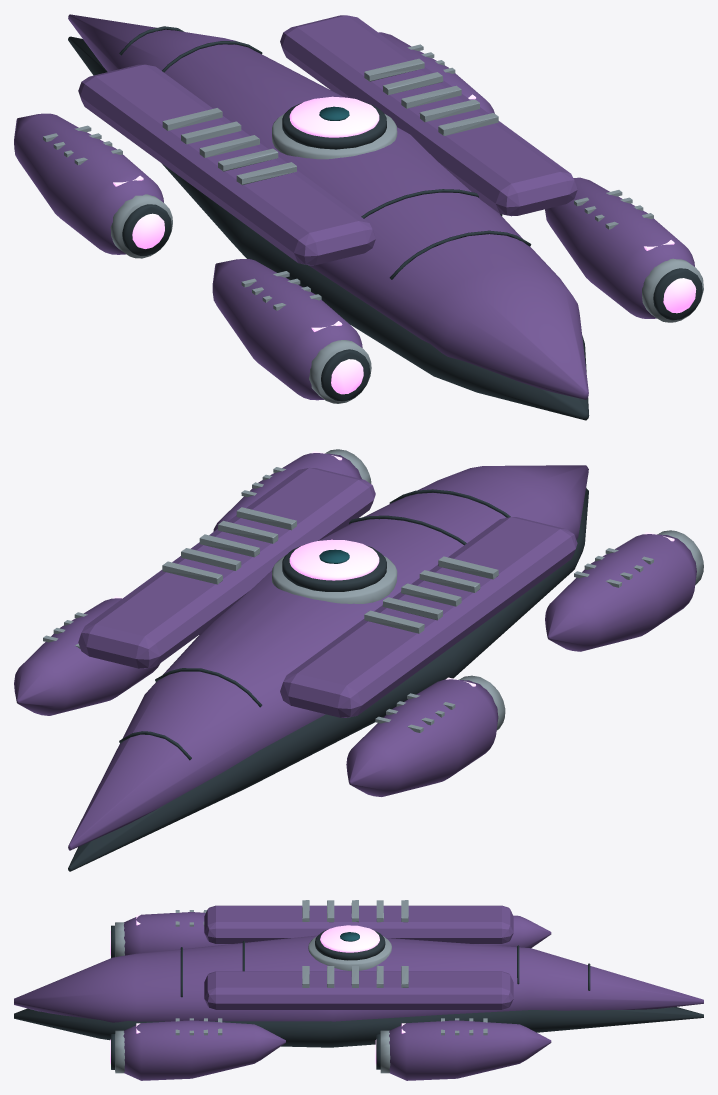
The model's file is enemy-5.glb.
3 views of the same model, one above another, from view 1: azimuth 30°, elevation 25°; view 2: azimuth 150°, elevation 25°; view 3: azimuth 270°, elevation 25° (orthographic). The views are drawn at different scales.
Parts seen in each view (by area): view 1: SM_Hull; view 2: SM_Hull; view 3: SM_Hull.
Boxes of the visible parts, box(x1,y1,x2,y2) form: SM_Hull: box(14, 14, 703, 420); SM_Hull: box(14, 449, 703, 871); SM_Hull: box(14, 900, 703, 1080).
Size of the model in its own units: 3.6 by 1.2 by 7.8.
